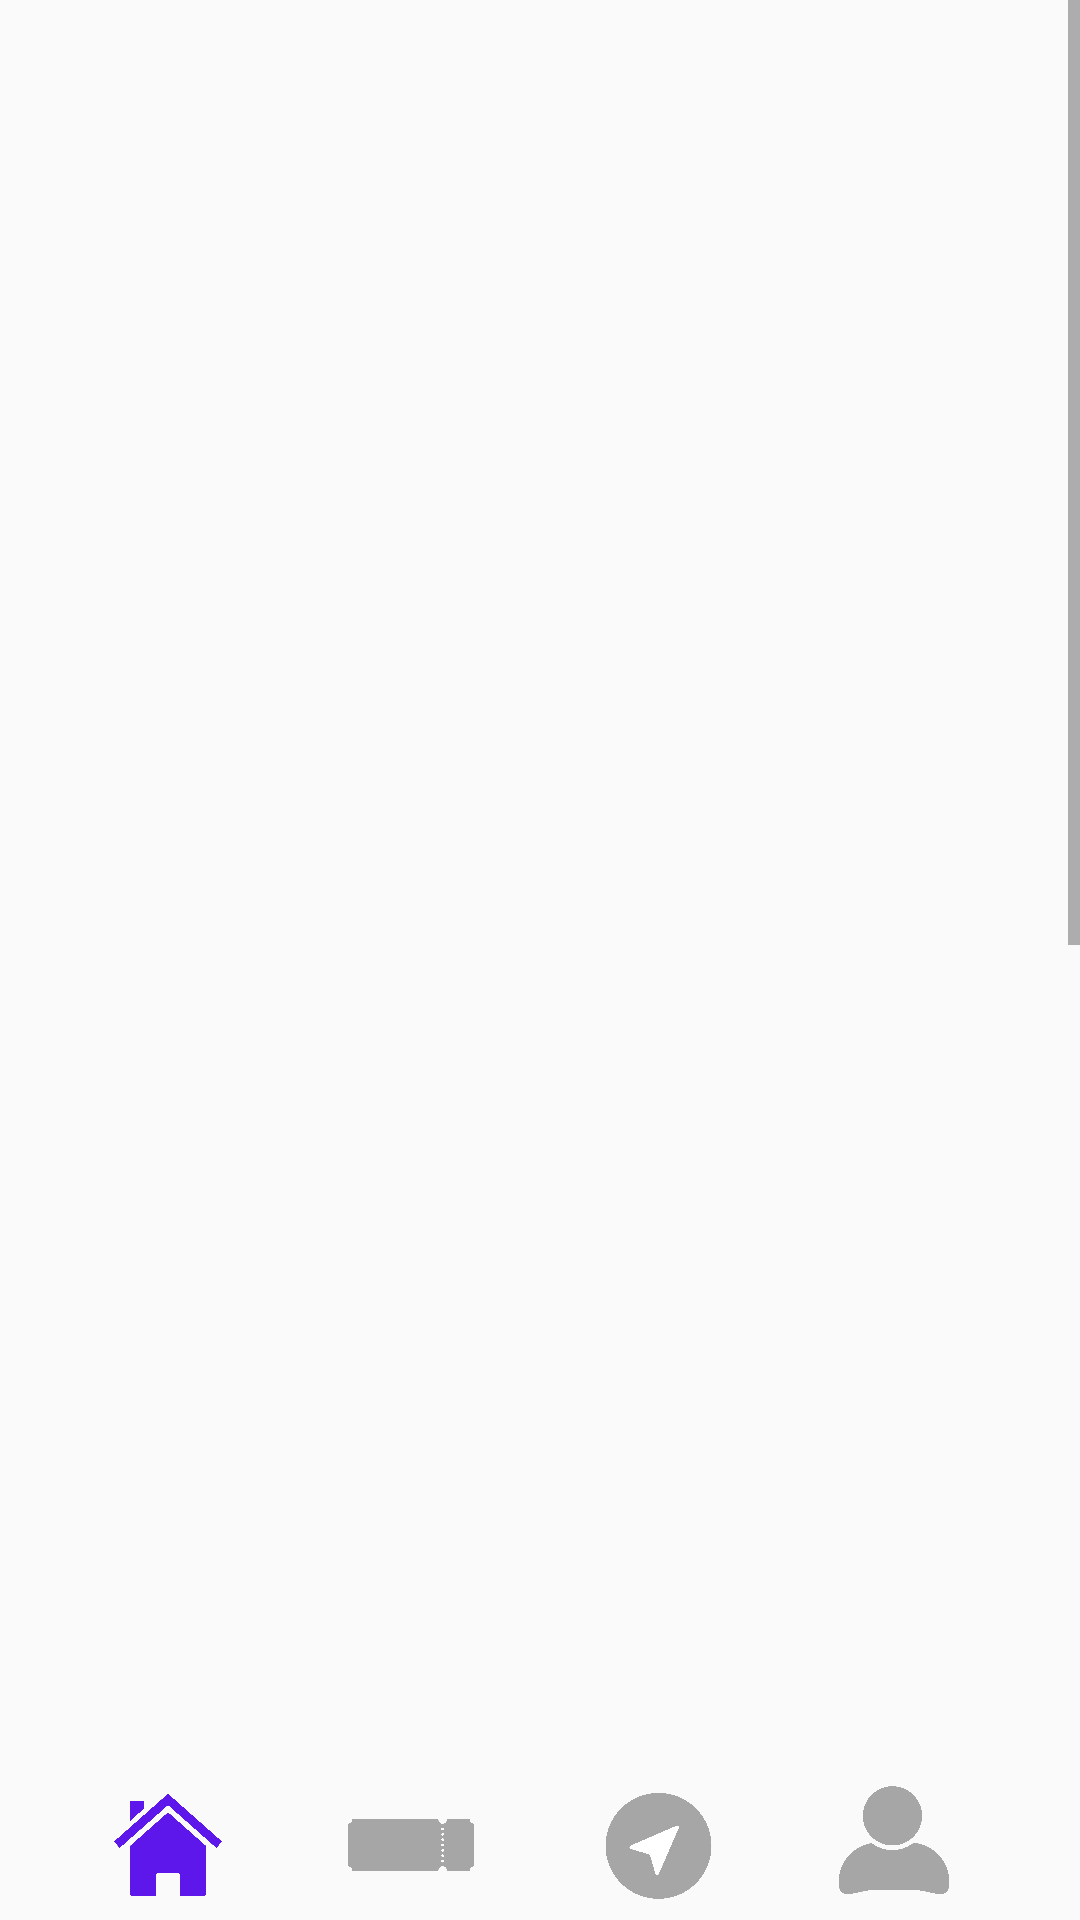

Screen size 1080w x 1920h. Icon name, then its center in pixels as point (x, y):
home: point (168, 1845)
myinfo: point (894, 1840)
site: point (658, 1846)
ticket: point (411, 1845)
